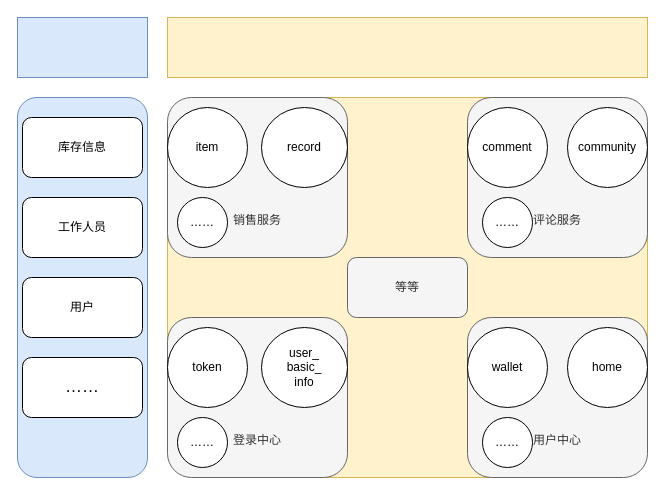
This 665x495 diagram has some shape labels left out. The shapes that lost their labels are listed below. From the top down, each one's centre as x and y in pixels, then its label:
At point (82, 47): "基础数据".
At point (407, 47): "应用层".
